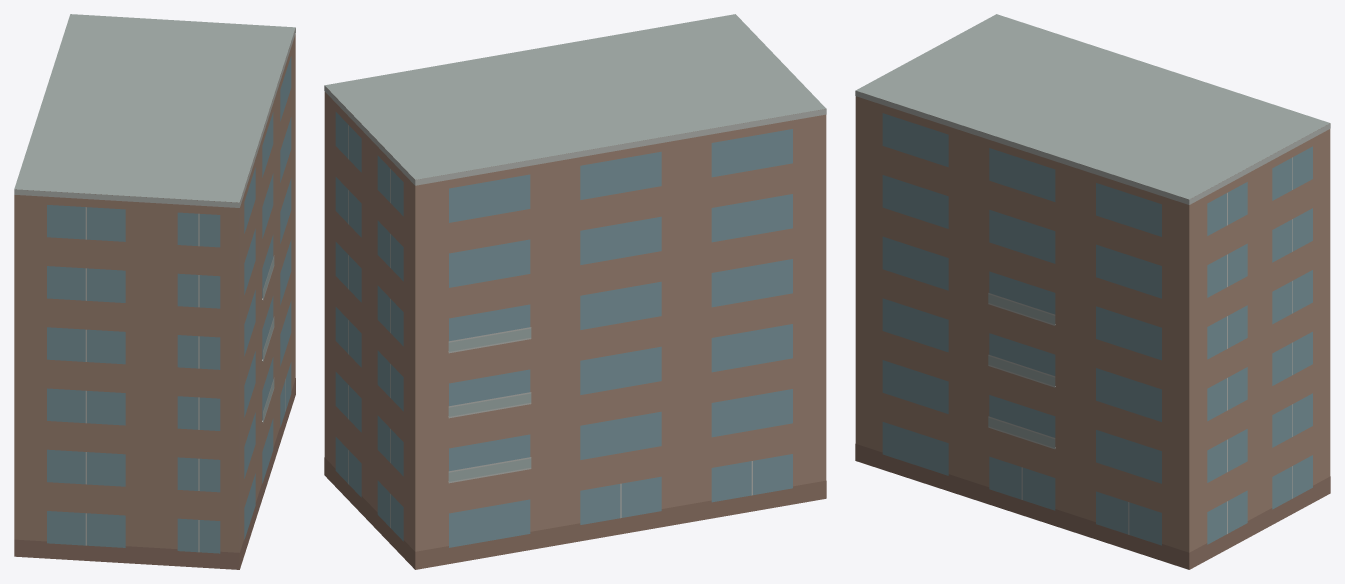
Rendered from survey-upis-32618652.glb.
The picture shows the model from 3 angles, left to right: view 1: azimuth 30°, elevation 25°; view 2: azimuth 150°, elevation 25°; view 3: azimuth 270°, elevation 25°; orthographic projection. The views are drawn at different scales.
Parts seen in each view (by area): view 1: survey-upis-32618652.tmp; view 2: survey-upis-32618652.tmp; view 3: survey-upis-32618652.tmp.
Part boxes in pixels (bbox=[...]): survey-upis-32618652.tmp: bbox=[14, 14, 295, 569]; survey-upis-32618652.tmp: bbox=[324, 14, 826, 569]; survey-upis-32618652.tmp: bbox=[855, 14, 1330, 569].
Size of the model in its own units: 17.52 by 16.3 by 18.96.
